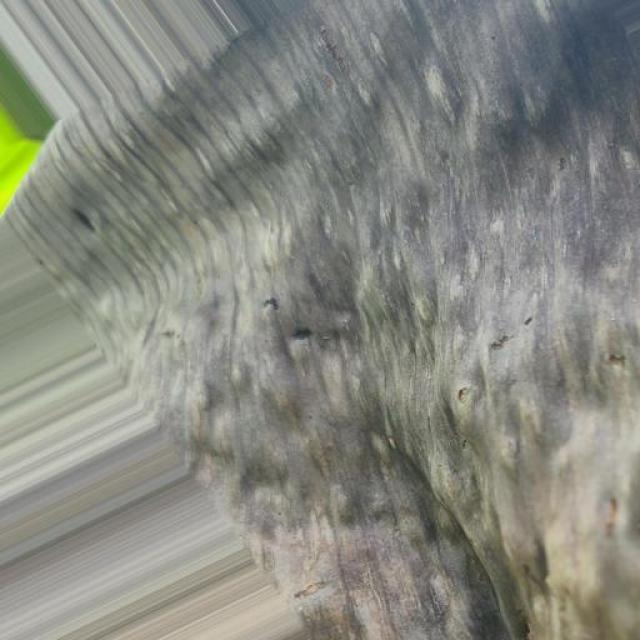Bract_mosaic_virus: (1, 0, 640, 620), (0, 472, 640, 640)
